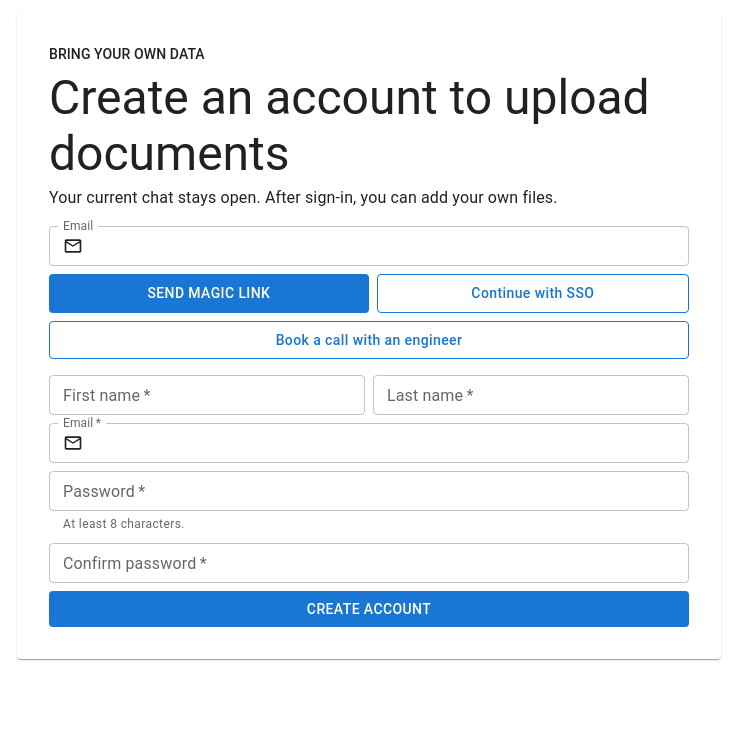
Scenario: SignUpWidget › blocks submit and shows inline error when password is too short
The image size is (739, 734).
Type "Pat" into the field with test id "signup-first-input" at point(207, 395), box top-left (49, 375), bottom-right (365, 415)
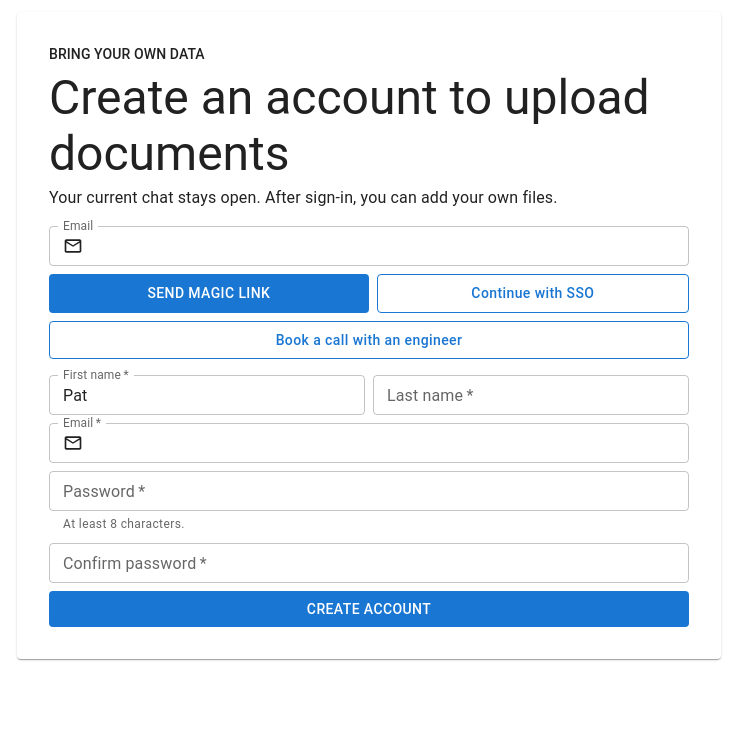
Type "Lee" into the field with test id "signup-last-input" at point(531, 395), box top-left (373, 375), bottom-right (689, 415)
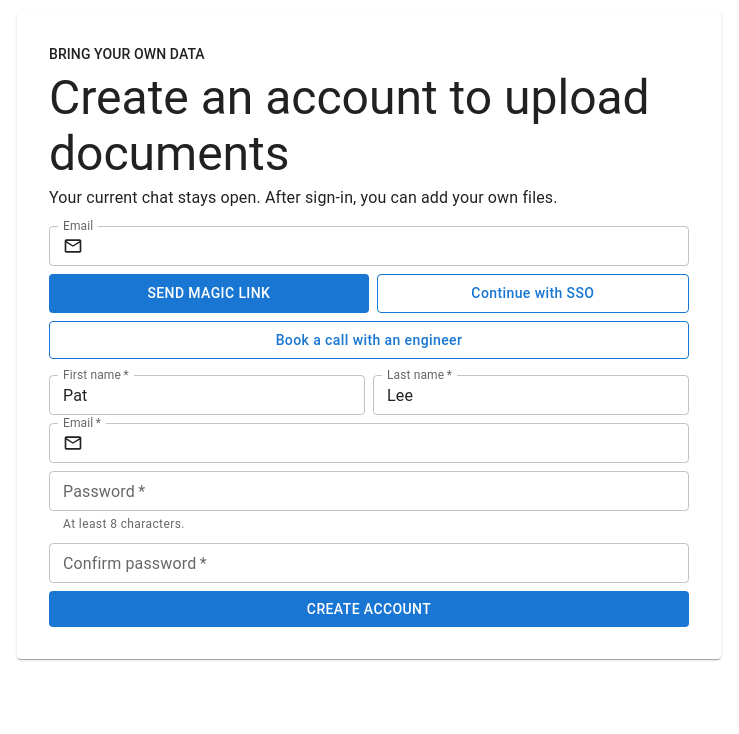
Type "pat@example.com" into the field with test id "signup-email-input" at point(390, 443), box top-left (91, 423), bottom-right (689, 463)
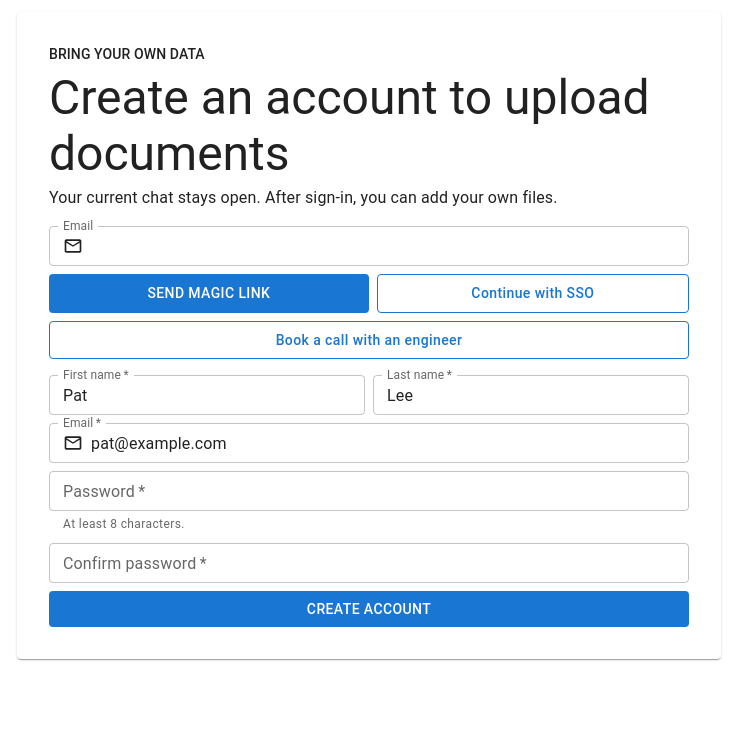
Type "short" into the password field with test id "signup-password-input" at point(369, 491), box top-left (49, 471), bottom-right (689, 511)
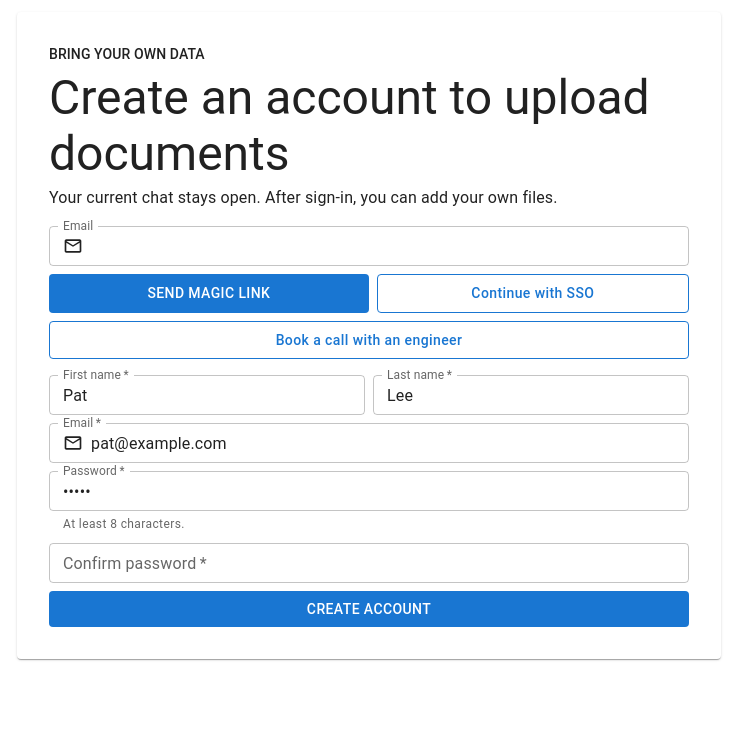
Type "short" into the password field with test id "signup-confirm-input" at point(369, 563), box top-left (49, 543), bottom-right (689, 583)
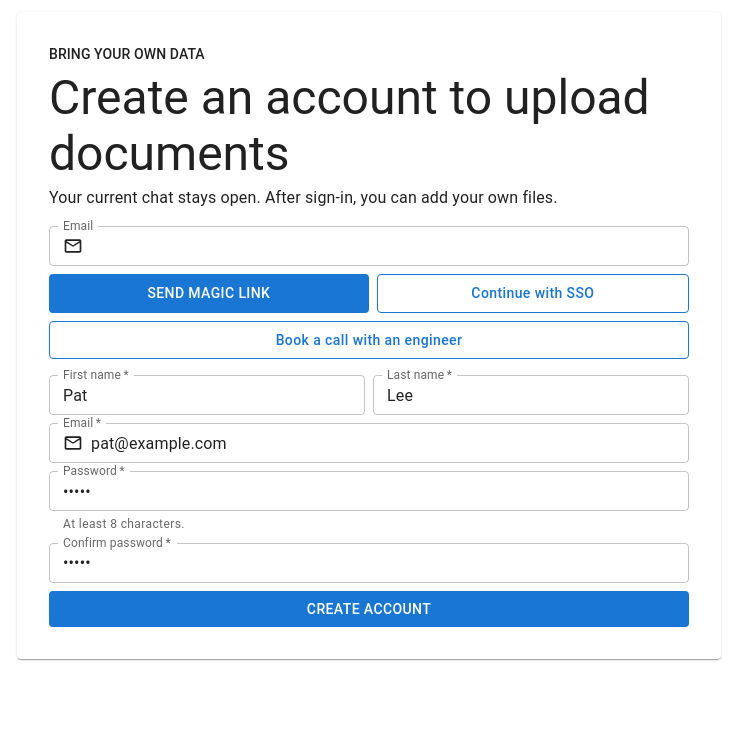
Click the button with test id "signup-submit" at point(369, 609), box top-left (49, 591), bottom-right (689, 627)
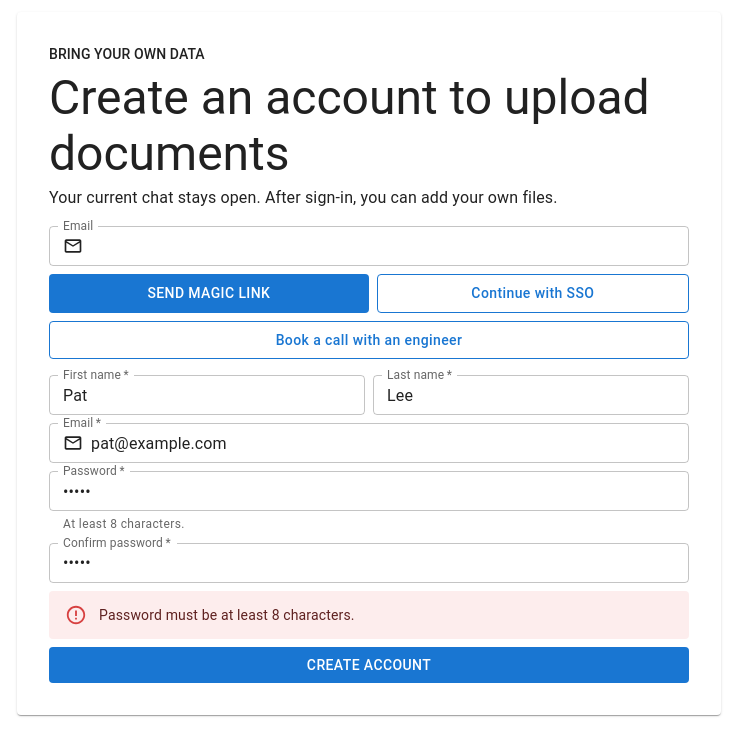
Expected: the message with test id "signup-error" shows "8 characters", top-left (99, 607), bottom-right (355, 623)
